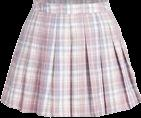Hemline: (0, 99, 140, 117)
Waistline: (32, 5, 110, 13), (33, 0, 108, 4)
